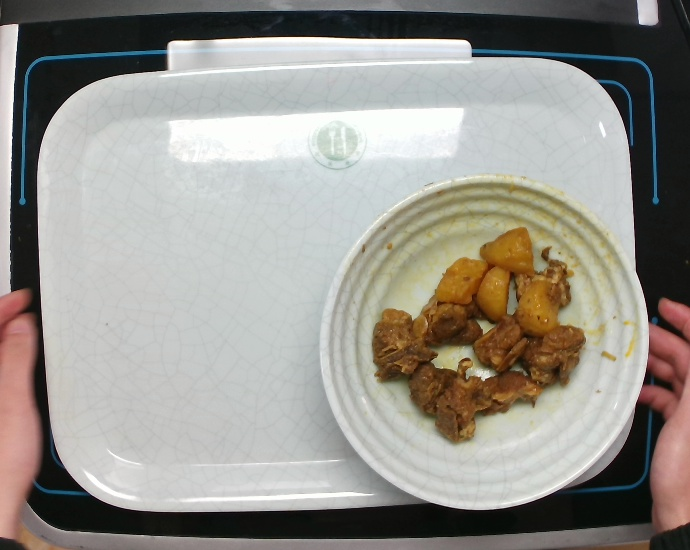JYsf-Da_Tang_Wan: (306, 156, 654, 514)
